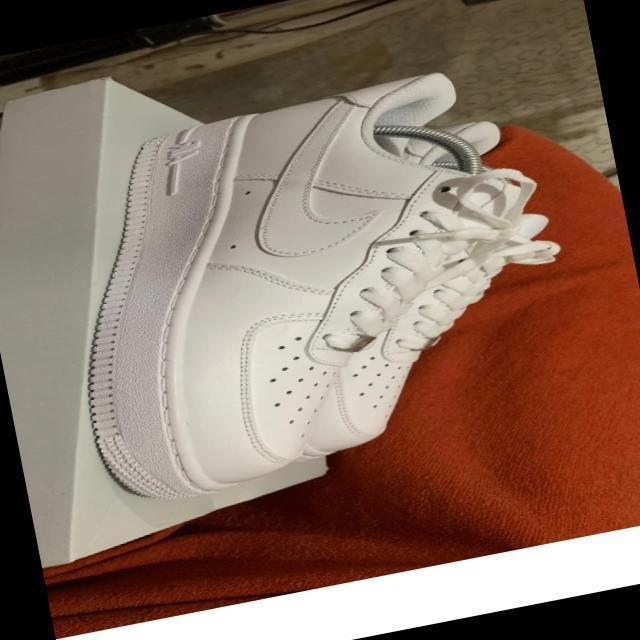nike original air force: (15, 61, 530, 515), (234, 135, 588, 470)
